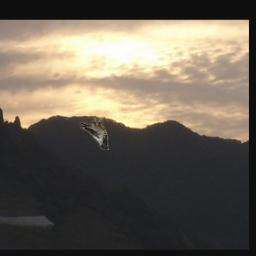Crow: (81, 118, 110, 151)
